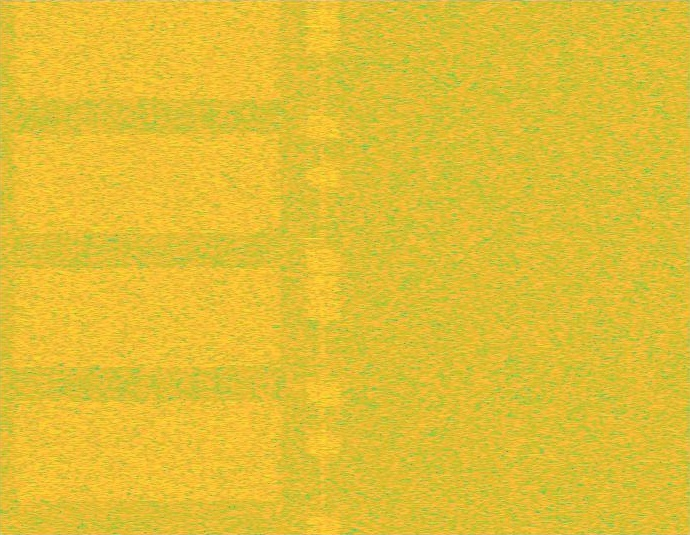5G: (10, 0, 286, 534)
DSSS: (321, 0, 325, 534)
LTE: (306, 0, 340, 534)
Radar: (306, 0, 320, 534)
